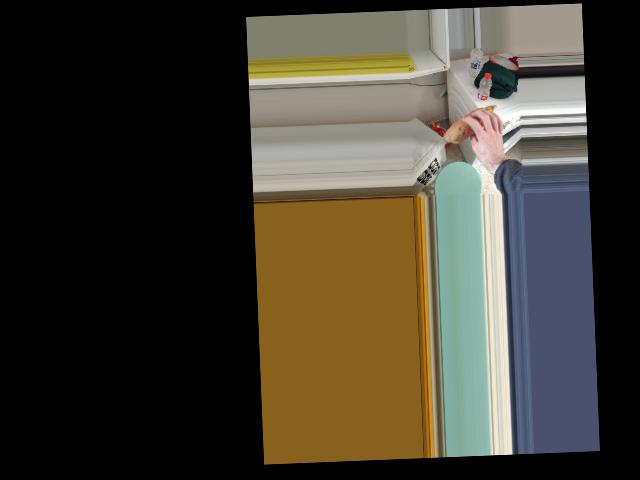sweet_potato: (444, 107, 500, 144)
